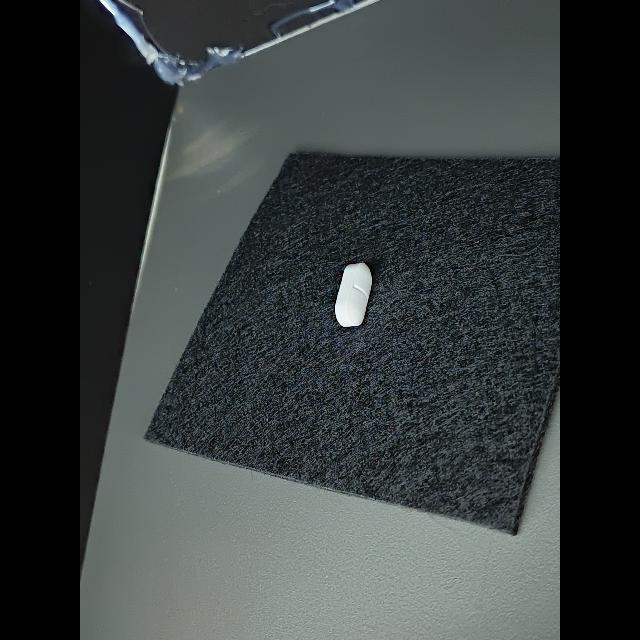Intact Pill: (335, 263, 372, 327)
